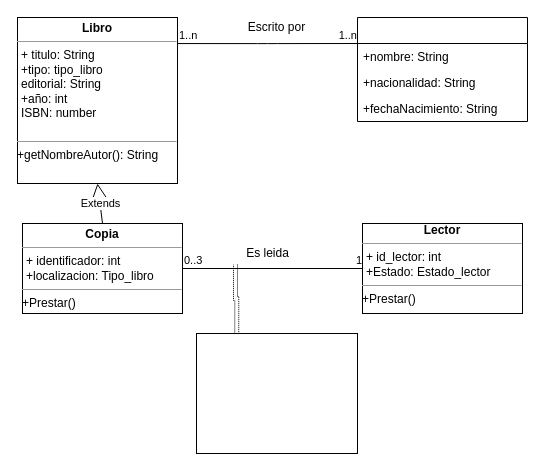
Some shapes in this 545 by 471 pixel diagram are drawn without their labels. Here are the shapes that lost their labels. From the top down, the box of each, then its label:
(356, 16, 528, 122): Autores
(196, 332, 358, 454): Prestamo + f_entrega: date +f_devolucion: date +multa: boolean +Multa()
